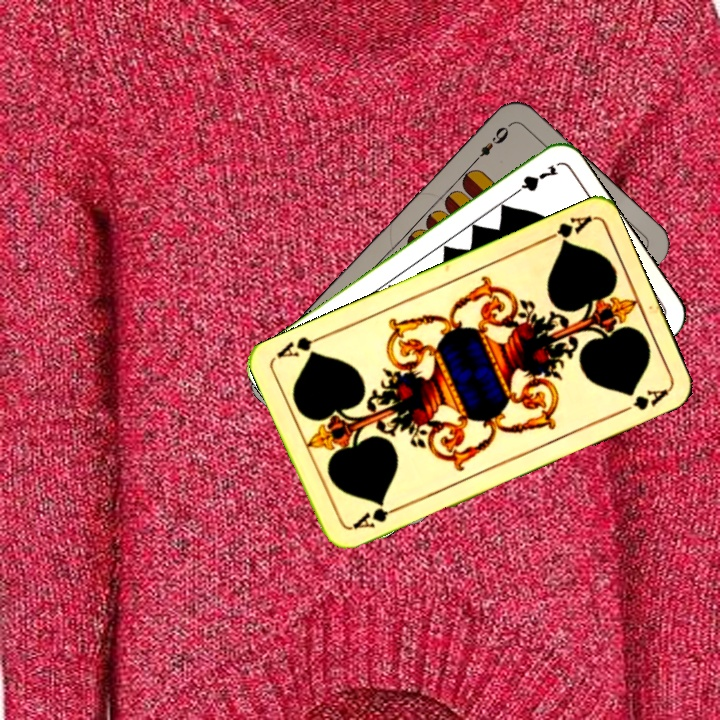E9: (468, 120, 514, 167)
G7: (506, 160, 561, 200)
GA: (537, 212, 594, 247), (347, 500, 403, 532)
